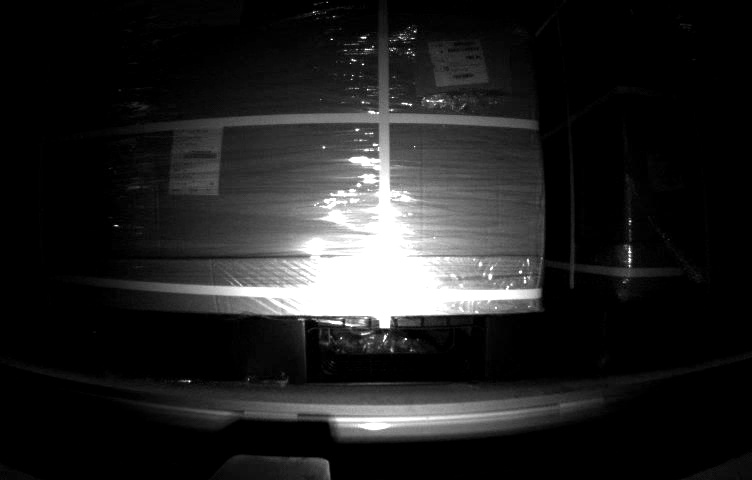True Barcode: (426, 38, 490, 83)
